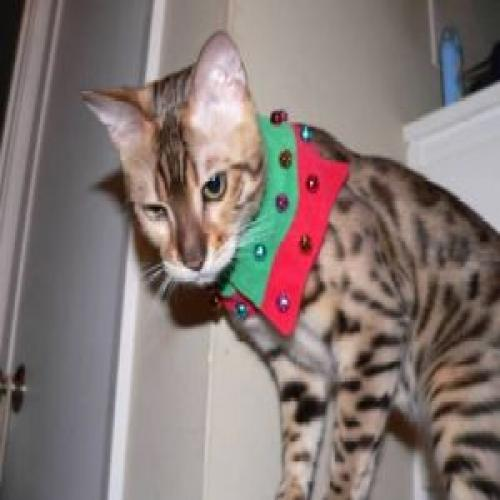bengal: (69, 27, 263, 303)
